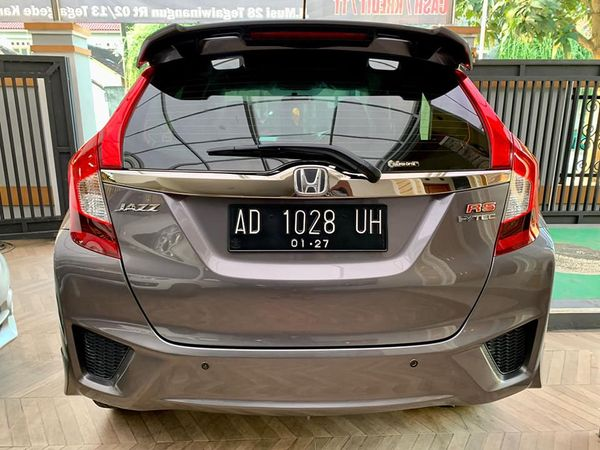plate: (227, 203, 387, 254)
